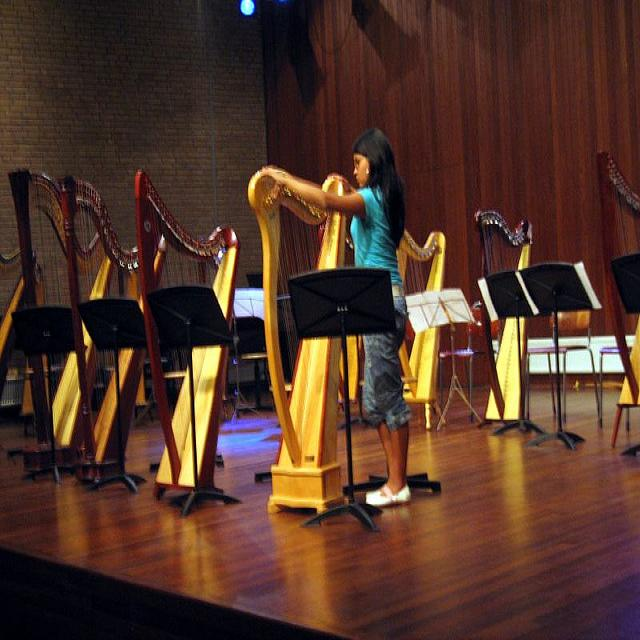harp: (132, 165, 248, 506), (247, 164, 349, 520), (11, 172, 117, 469), (59, 173, 157, 468), (465, 205, 535, 430), (369, 220, 446, 414), (590, 146, 640, 393), (0, 248, 36, 414)
